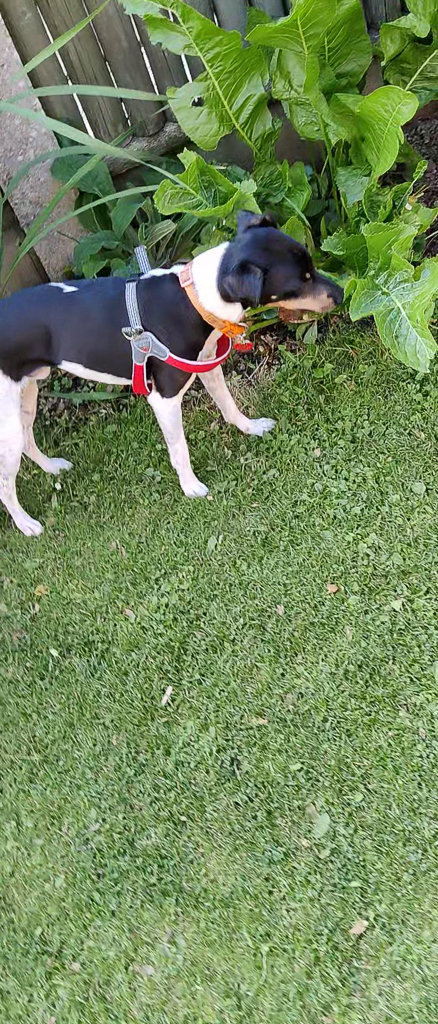Dog: (0, 199, 360, 564)
